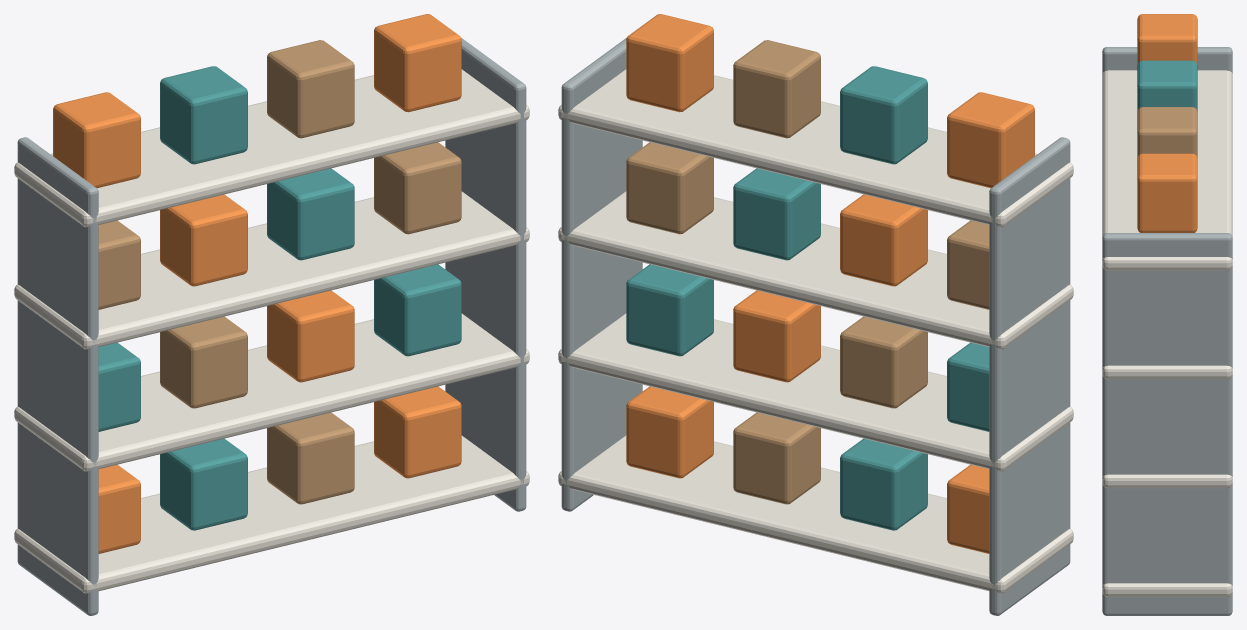
File: shelf.glb
3 views of the same model, side by side, from view 1: azimuth 30°, elevation 25°; view 2: azimuth 150°, elevation 25°; view 3: azimuth 270°, elevation 25° (orthographic). The views are drawn at different scales.
Visible parts, largest first — view 1: shelf; view 2: shelf; view 3: shelf.
Part boxes in pixels (box(x1,y1,x2,y2)): shelf: box(14, 14, 529, 615); shelf: box(558, 14, 1073, 615); shelf: box(1102, 14, 1232, 615).
Bounding box in the file's own units: 2.3 × 2.32 × 0.65.
